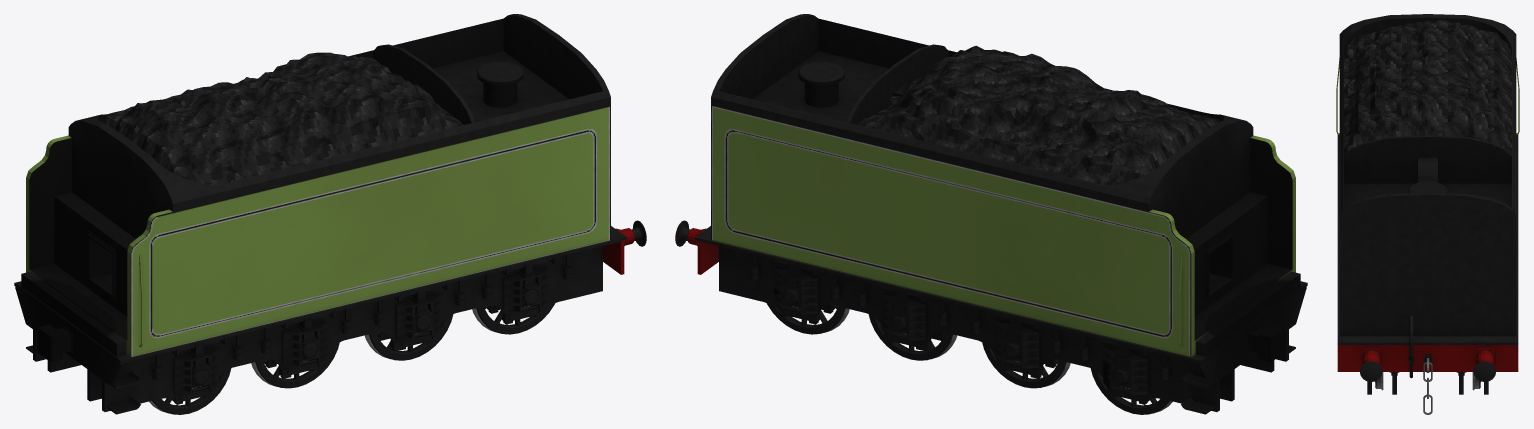
Rendered from a1_peppercorn_tender.obj.
3 renders of one model, left to right at view 1: azimuth 30°, elevation 25°; view 2: azimuth 150°, elevation 25°; view 3: azimuth 270°, elevation 25°, orthographic. The views are drawn at different scales.
Visible parts, largest first — view 1: SHELL_Cube.000, FRAME_Cube.005, CARGO_FILL_95_Plane.000, FRAME_WHEEL_3_Cylinder.001, FRAME_WHEEL_2_Cylinder.002, FRAME_WHEEL_4_Cylinder.000, FRAME_WHEEL_1_Cylinder.003; view 2: SHELL_Cube.000, FRAME_Cube.005, CARGO_FILL_95_Plane.000, FRAME_WHEEL_3_Cylinder.001, FRAME_WHEEL_2_Cylinder.002, FRAME_WHEEL_4_Cylinder.000, FRAME_WHEEL_1_Cylinder.003; view 3: SHELL_Cube.000, CARGO_FILL_95_Plane.000, FRAME_Cube.005, FRAME_WHEEL_4_Cylinder.000.
Part boxes in pixels (<box>): SHELL_Cube.000: <box>26,14,610,357</box>; FRAME_Cube.005: <box>14,220,646,414</box>; CARGO_FILL_95_Plane.000: <box>100,52,463,185</box>; FRAME_WHEEL_3_Cylinder.001: <box>364,314,453,360</box>; FRAME_WHEEL_2_Cylinder.002: <box>251,342,339,388</box>; FRAME_WHEEL_4_Cylinder.000: <box>472,302,555,334</box>; FRAME_WHEEL_1_Cylinder.003: <box>149,368,231,414</box>; SHELL_Cube.000: <box>711,14,1295,357</box>; FRAME_Cube.005: <box>675,220,1307,414</box>; CARGO_FILL_95_Plane.000: <box>858,45,1221,185</box>; FRAME_WHEEL_3_Cylinder.001: <box>868,314,957,360</box>; FRAME_WHEEL_2_Cylinder.002: <box>982,342,1070,388</box>; FRAME_WHEEL_4_Cylinder.000: <box>766,302,849,334</box>; FRAME_WHEEL_1_Cylinder.003: <box>1090,368,1172,414</box>; SHELL_Cube.000: <box>1336,14,1519,336</box>; CARGO_FILL_95_Plane.000: <box>1344,19,1511,154</box>; FRAME_Cube.005: <box>1337,133,1518,414</box>; FRAME_WHEEL_4_Cylinder.000: <box>1375,372,1480,390</box>.
Bounding box in the file's own units: 8.49 × 4.1 × 2.82.
Materials: 4 (4 with a texture image).
